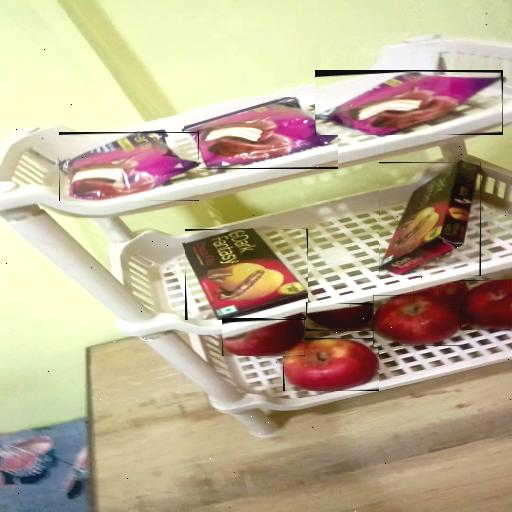Apple: (283, 338, 379, 391), (373, 295, 462, 346), (222, 319, 305, 356), (460, 280, 510, 330), (306, 303, 373, 331), (413, 281, 469, 305)
Choco Fills: (379, 162, 481, 276), (185, 230, 308, 322)
Choco Pie: (315, 70, 503, 135), (184, 98, 338, 170), (59, 132, 199, 201)
